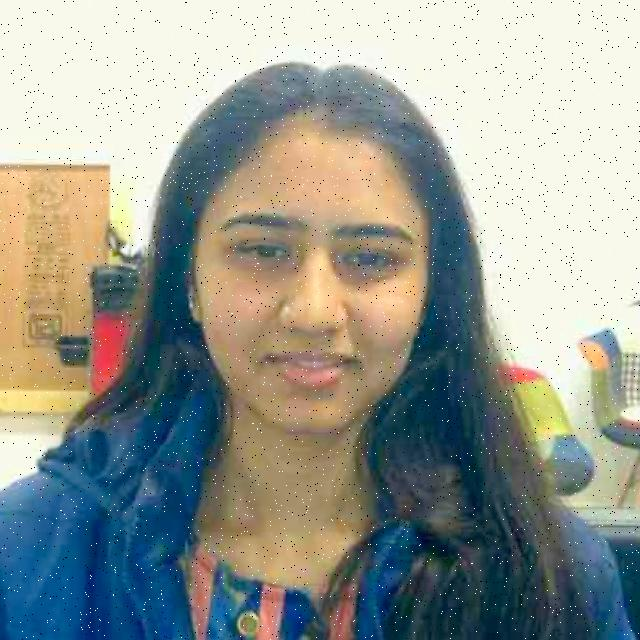puffy_eyes: (328, 250, 396, 285)
